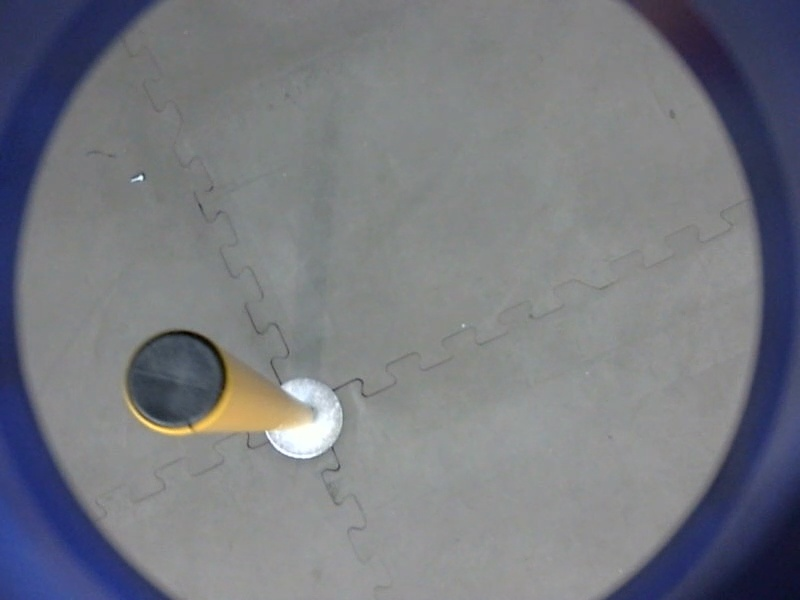tip: (113, 318, 237, 443)
